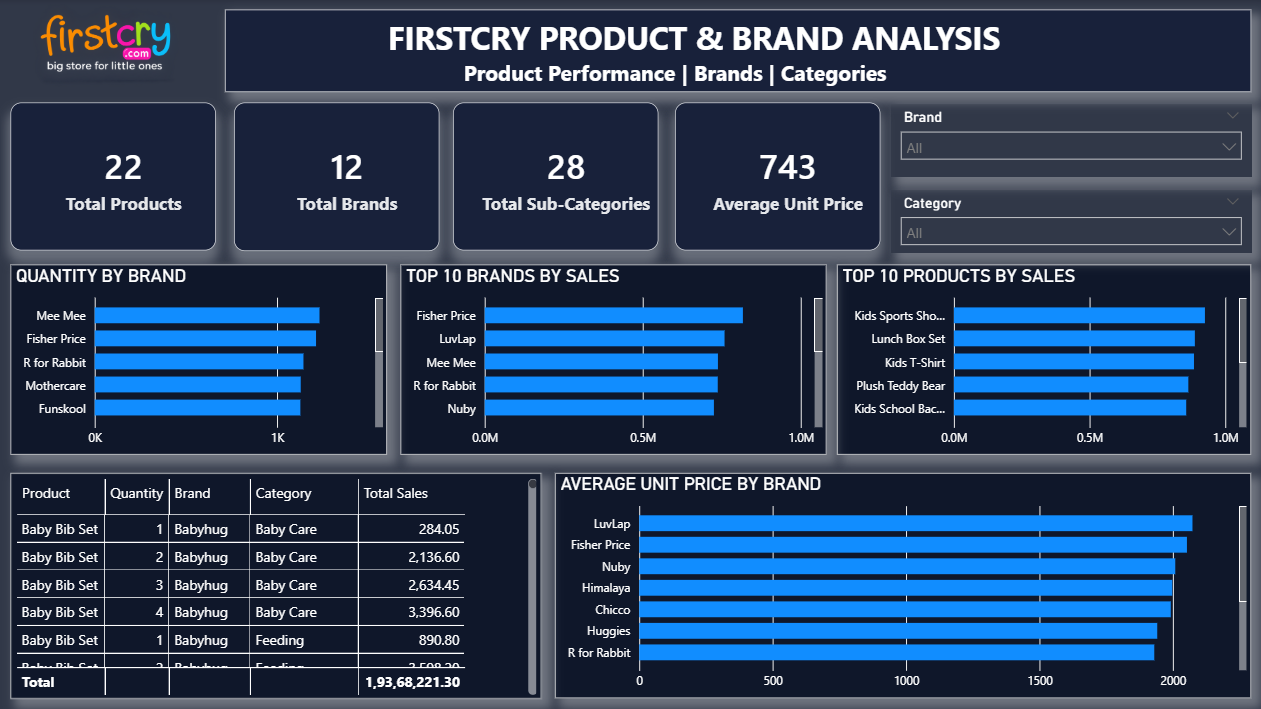

The page's visual inventory and layout, read from the dashboard file:
{"tool":"powerbi","page":{"name":"Product & Brand Analysis","canvas":[1280,720],"ordinal":1},"visuals":[{"type":"image","box":[0,0,219.6,93.9],"z":0},{"type":"card","fields":{"Values":["FirstCry_Dataset.Total Brands"]},"box":[239.1,104.5,207.1,149.9],"z":0,"group":"g1"},{"type":"textbox","box":[230.2,10.6,1035.7,83.3],"z":1000},{"type":"card","fields":{"Values":["FirstCry_Dataset.Total Products"]},"box":[13.6,104.5,207.1,149.2],"z":1000,"group":"g1"},{"type":"group","id":"g1","title":"Group 1","box":[13.6,104.5,878.2,149.9],"z":2000},{"type":"card","fields":{"Values":["FirstCry_Dataset.Average Unit Price"]},"box":[684.8,104.5,207.1,149.2],"z":2000,"group":"g1"},{"type":"card","fields":{"Values":["FirstCry_Dataset.Total Sub-Categories"]},"box":[461,104.5,207.1,149.2],"z":3000,"group":"g1"},{"type":"barChart","title":"TOP 10 PRODUCTS BY SALES","fields":{"Category":["FirstCry_Dataset.Product"],"Y":["FirstCry_Dataset.Total Sales"]},"box":[848,268,417.9,192.3],"z":3000},{"type":"barChart","title":"                 TOP 10 BRANDS BY SALES","fields":{"Y":["FirstCry_Dataset.Total Sales"],"Category":["FirstCry_Dataset.Brand"]},"box":[407.3,268,430,192.3],"z":4000},{"type":"barChart","title":"QUANTITY BY BRAND","fields":{"Category":["FirstCry_Dataset.Brand"],"Y":["FirstCry_Dataset.Total Quantity"]},"box":[13.6,268,380.1,192.3],"z":5000},{"type":"barChart","title":"AVERAGE UNIT PRICE BY BRAND","fields":{"Category":["FirstCry_Dataset.Brand"],"Y":["FirstCry_Dataset.Avg Ord Value"]},"box":[563.3,478.5,702.6,227.1],"z":6000},{"type":"tableEx","fields":{"Values":["FirstCry_Dataset.Product","FirstCry_Dataset.Quantity","FirstCry_Dataset.Brand","FirstCry_Dataset.Category","FirstCry_Dataset.Total Sales"]},"box":[14,478,536,228],"z":7000},{"type":"slicer","fields":{"Values":["FirstCry_Dataset.Category"]},"box":[902,192,364,64],"z":8000},{"type":"slicer","fields":{"Values":["FirstCry_Dataset.Brand"]},"box":[902,106,364,74],"z":9000}]}

Visuals, with their boxes in screenshot pixels (x1, y1, x2, y2), scaled from the page's 1280x720 canvas onto the 1261x709 screenshot:
image: bbox=[0, 0, 216, 92]
card - FirstCry_Dataset.Total Brands: bbox=[236, 103, 440, 251]
textbox: bbox=[227, 10, 1247, 92]
card - FirstCry_Dataset.Total Products: bbox=[13, 103, 217, 250]
"Group 1" group: bbox=[13, 103, 879, 251]
card - FirstCry_Dataset.Average Unit Price: bbox=[675, 103, 879, 250]
card - FirstCry_Dataset.Total Sub-Categories: bbox=[454, 103, 658, 250]
"TOP 10 PRODUCTS BY SALES" barChart: bbox=[835, 264, 1247, 453]
"                 TOP 10 BRANDS BY SALES" barChart: bbox=[401, 264, 825, 453]
"QUANTITY BY BRAND" barChart: bbox=[13, 264, 388, 453]
"AVERAGE UNIT PRICE BY BRAND" barChart: bbox=[555, 471, 1247, 695]
tableEx - FirstCry_Dataset.Product x FirstCry_Dataset.Quantity: bbox=[14, 471, 542, 695]
slicer - FirstCry_Dataset.Category: bbox=[889, 189, 1247, 252]
slicer - FirstCry_Dataset.Brand: bbox=[889, 104, 1247, 177]
